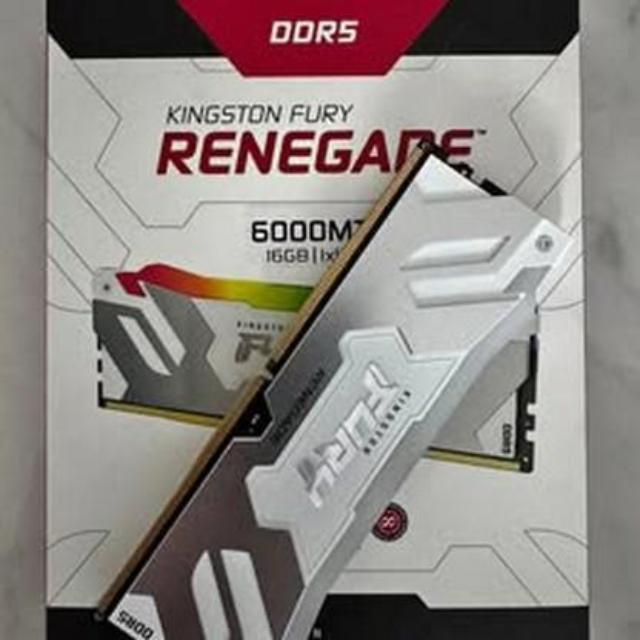RAM: (82, 134, 580, 640)
